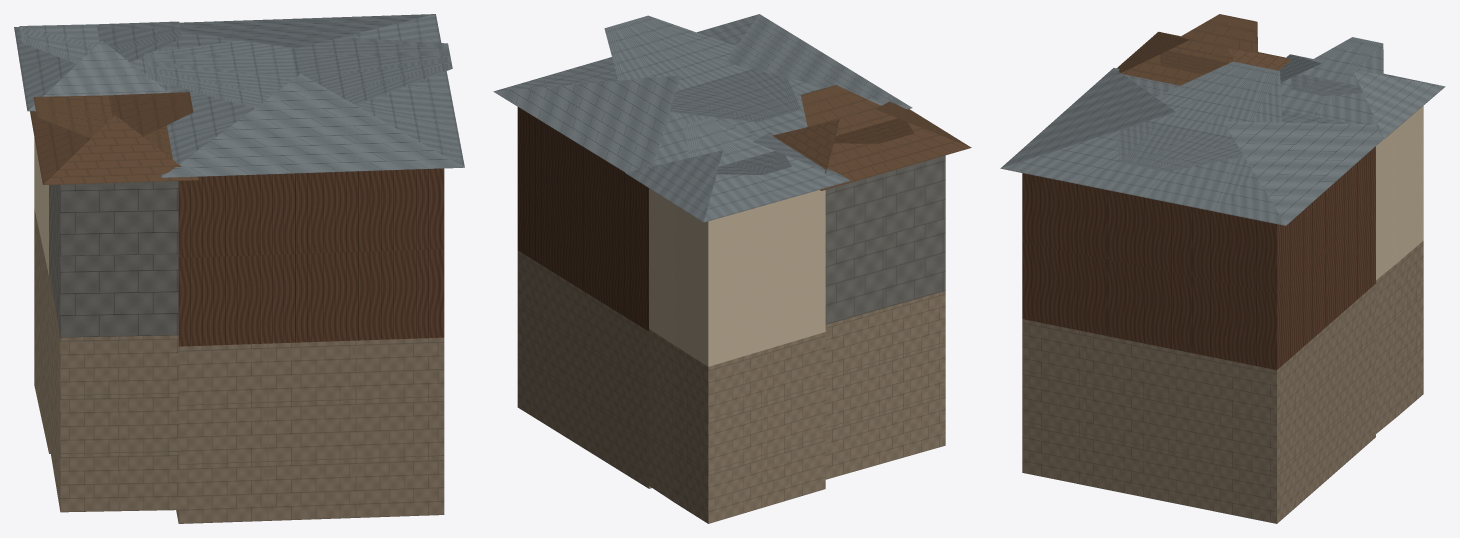
Rendered from bld_c21_43_380.gltf.
3 views of the same model, side by side, from view 1: azimuth 30°, elevation 25°; view 2: azimuth 150°, elevation 25°; view 3: azimuth 270°, elevation 25° (orthographic). The views are drawn at different scales.
Parts seen in each view (by area): view 1: bld_c21_43_380; view 2: bld_c21_43_380; view 3: bld_c21_43_380.
Part boxes in pixels (left/top/right/bottom): bld_c21_43_380: left=14, top=14, right=464, bottom=523; bld_c21_43_380: left=493, top=14, right=971, bottom=523; bld_c21_43_380: left=1000, top=14, right=1445, bottom=523.
Bounding box in the file's own units: 14.04 × 11.2 × 13.39.
6 materials, 6 textured.
